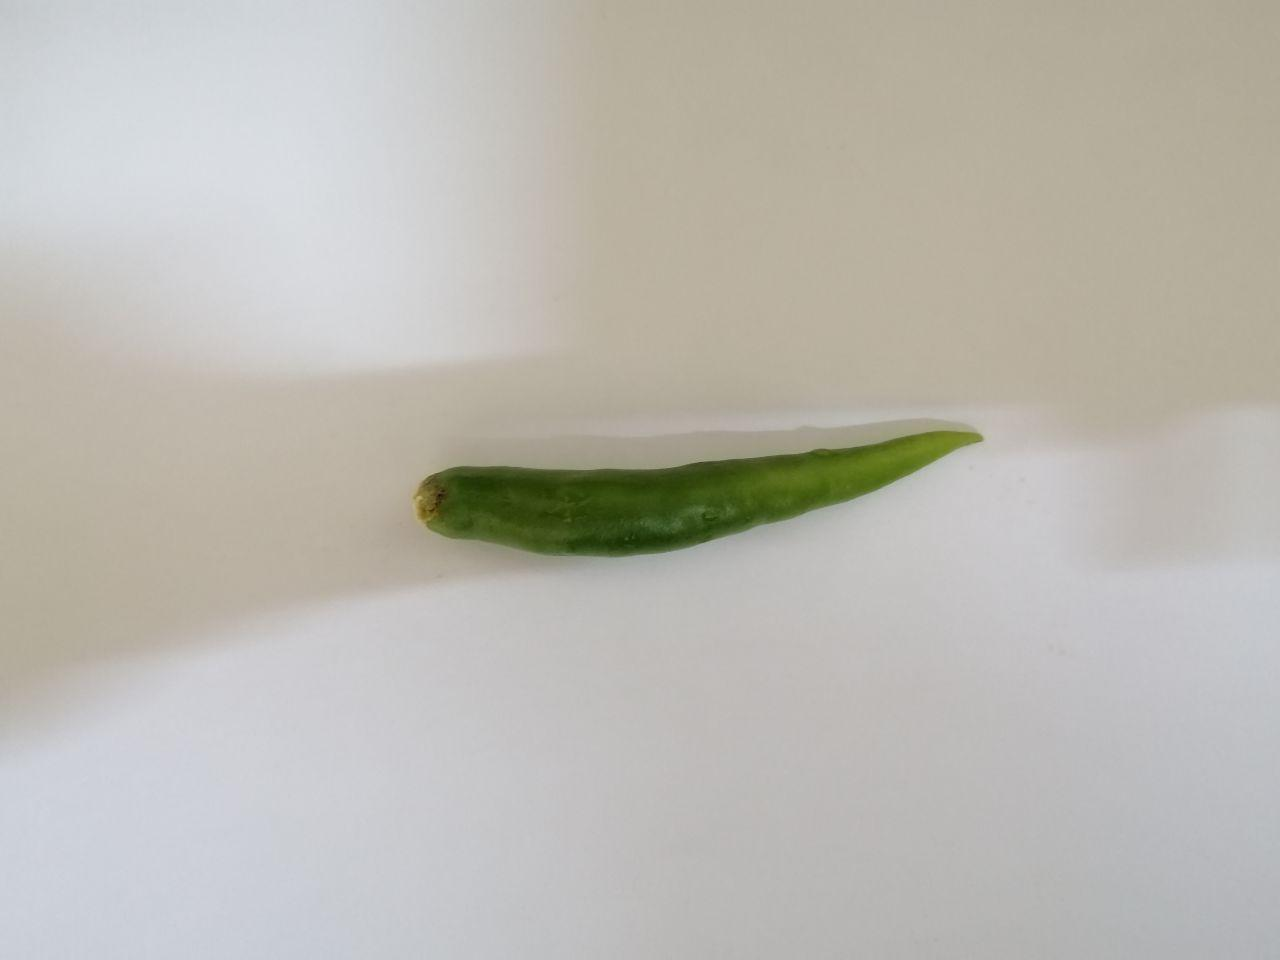lada hijau: (400, 399, 991, 575)
